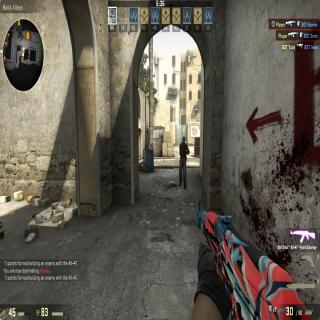T-Body: (179, 135, 188, 188)
T-Head: (182, 136, 185, 144)
